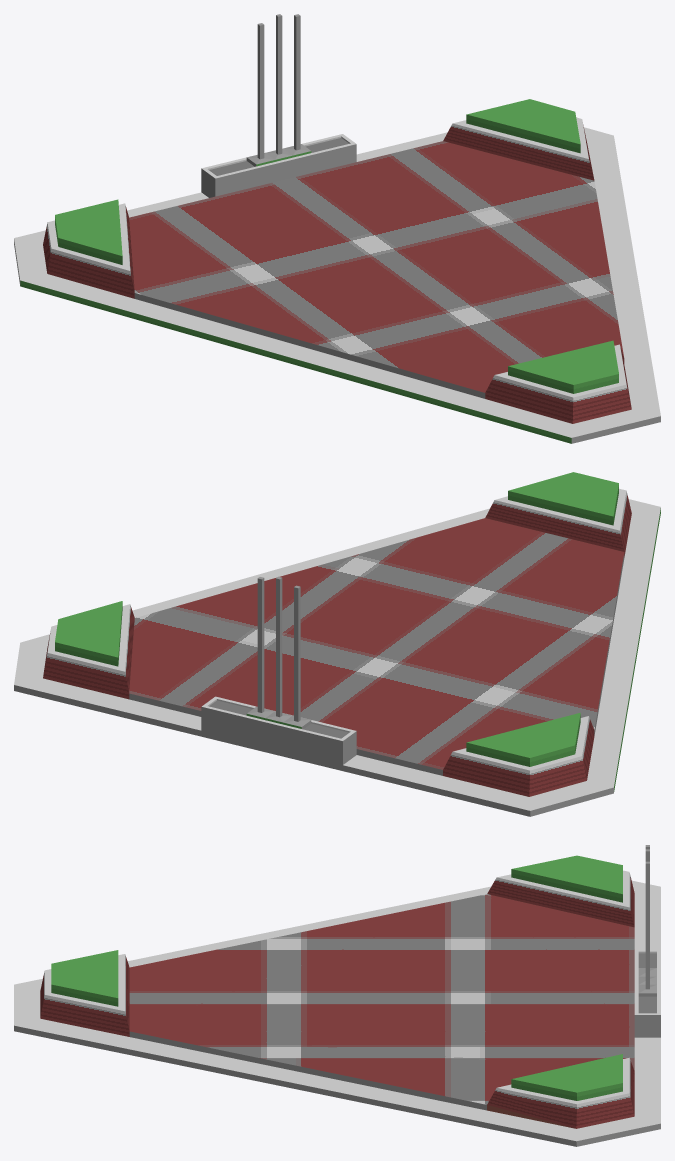
Rendered from qcu_triangle.glb.
The picture shows the model from 3 angles, top to bottom: view 1: azimuth 30°, elevation 25°; view 2: azimuth 150°, elevation 25°; view 3: azimuth 270°, elevation 25°; orthographic projection. The views are drawn at different scales.
Visible parts, largest first — view 1: Triangle; view 2: Triangle; view 3: Triangle.
Boxes of the visible parts, left/top/right/bottom form: Triangle: left=14, top=14, right=660, bottom=443; Triangle: left=14, top=472, right=660, bottom=816; Triangle: left=14, top=845, right=660, bottom=1146.
Bounding box in the file's own units: 2.07 × 0.5695 × 2.08.
Materials: 1 (1 with a texture image).
